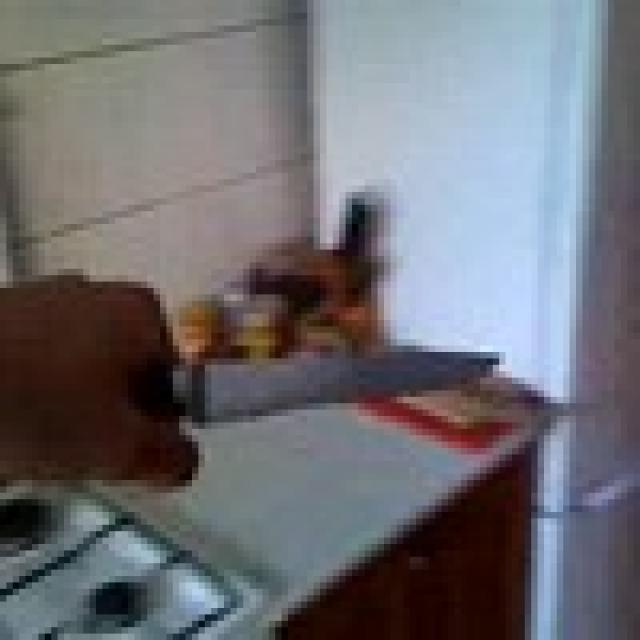Knife: (154, 333, 506, 435)
